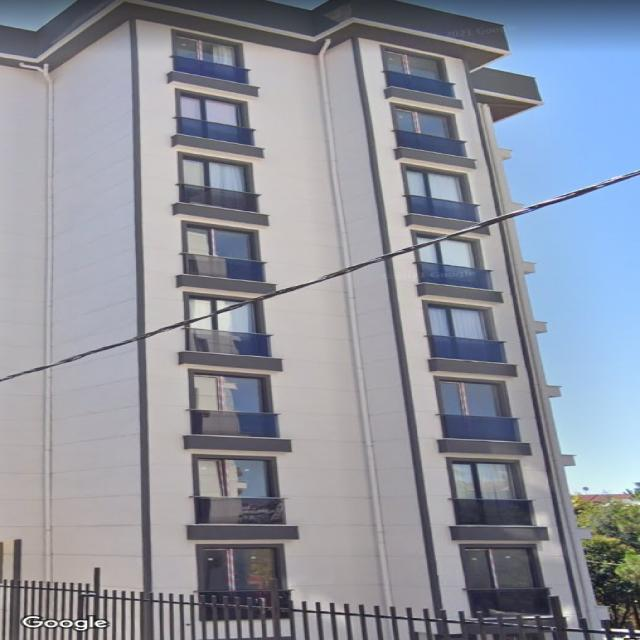Building: (0, 0, 604, 640)
